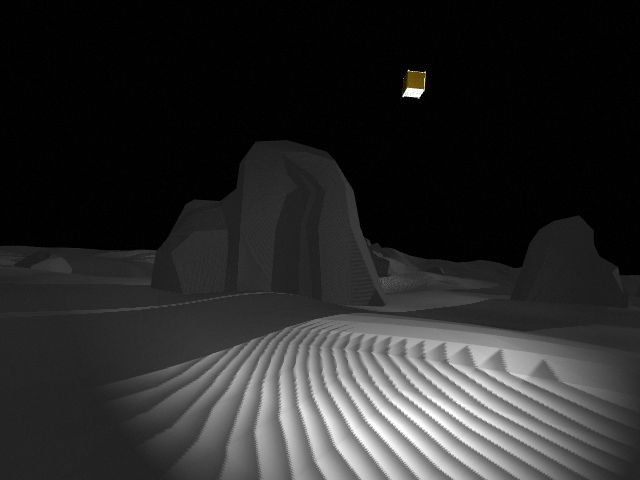cubesat: (396, 64, 431, 104)
